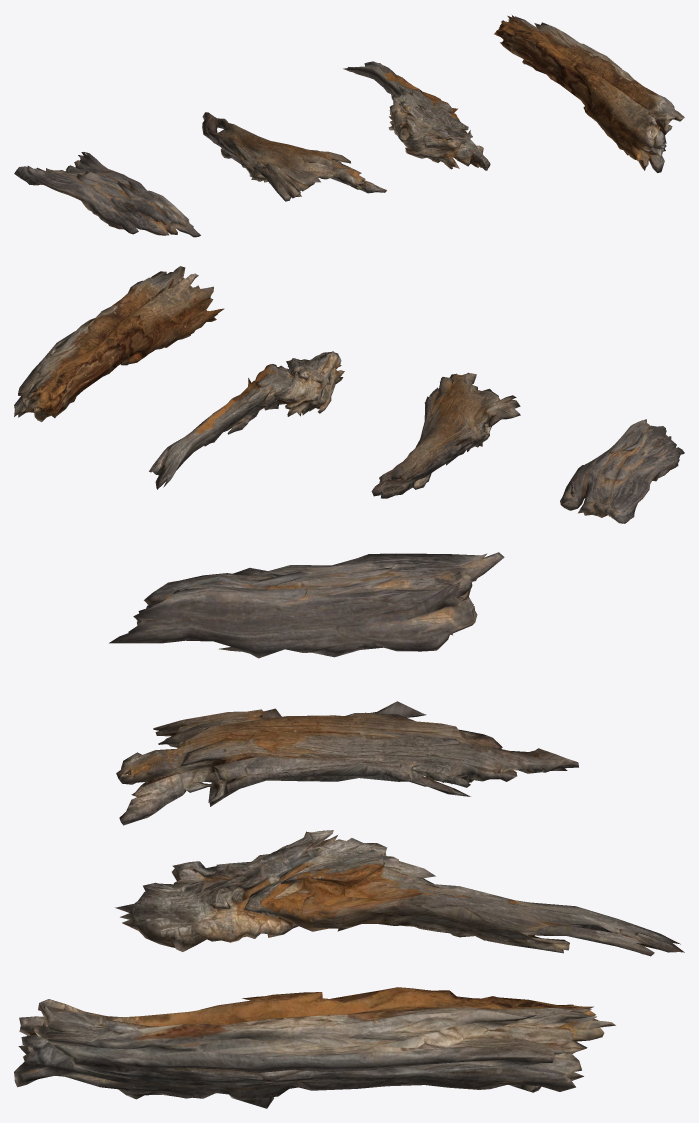
The model's file is bark_debris_01.glb.
3 renders of one model, top to bottom at view 1: azimuth 30°, elevation 25°; view 2: azimuth 150°, elevation 25°; view 3: azimuth 270°, elevation 25°, orthographic. The views are drawn at different scales.
Parts seen in each view (by area): view 1: bark_debris_01_d_LOD1, bark_debris_01_a_LOD1, bark_debris_01_b_LOD1, bark_debris_01_c_LOD1; view 2: bark_debris_01_d_LOD1, bark_debris_01_b_LOD1, bark_debris_01_c_LOD1, bark_debris_01_a_LOD1; view 3: bark_debris_01_d_LOD1, bark_debris_01_c_LOD1, bark_debris_01_a_LOD1, bark_debris_01_b_LOD1.
Part boxes in pixels (bbox=[...]): bark_debris_01_d_LOD1: bbox=[494, 15, 684, 172]; bark_debris_01_a_LOD1: bbox=[14, 152, 200, 237]; bark_debris_01_b_LOD1: bbox=[202, 112, 386, 201]; bark_debris_01_c_LOD1: bbox=[343, 61, 490, 170]; bark_debris_01_d_LOD1: bbox=[14, 266, 224, 422]; bark_debris_01_b_LOD1: bbox=[371, 372, 520, 498]; bark_debris_01_c_LOD1: bbox=[149, 351, 344, 489]; bark_debris_01_a_LOD1: bbox=[560, 419, 684, 523]; bark_debris_01_d_LOD1: bbox=[14, 987, 615, 1108]; bark_debris_01_c_LOD1: bbox=[115, 830, 684, 956]; bark_debris_01_a_LOD1: bbox=[109, 552, 504, 658]; bark_debris_01_b_LOD1: bbox=[116, 701, 578, 825].
Size of the model in its own units: 1.21 by 0.1098 by 0.6723.
1 material, 1 textured.
